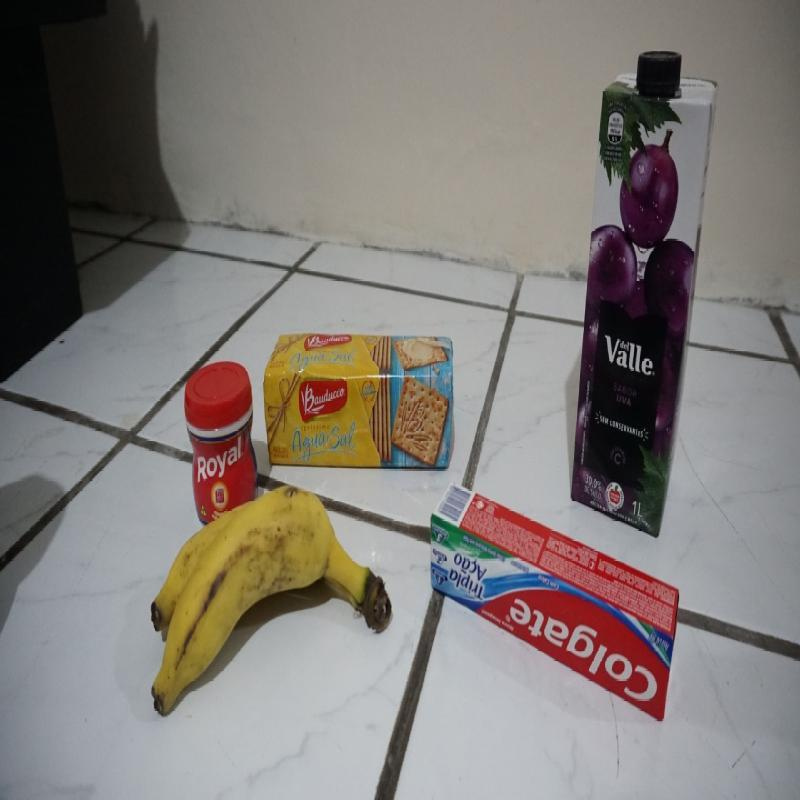Banana: (147, 494, 393, 693)
Cracker: (257, 316, 456, 470)
Toothpaste: (429, 481, 680, 714)
Yeast: (187, 352, 260, 501)
